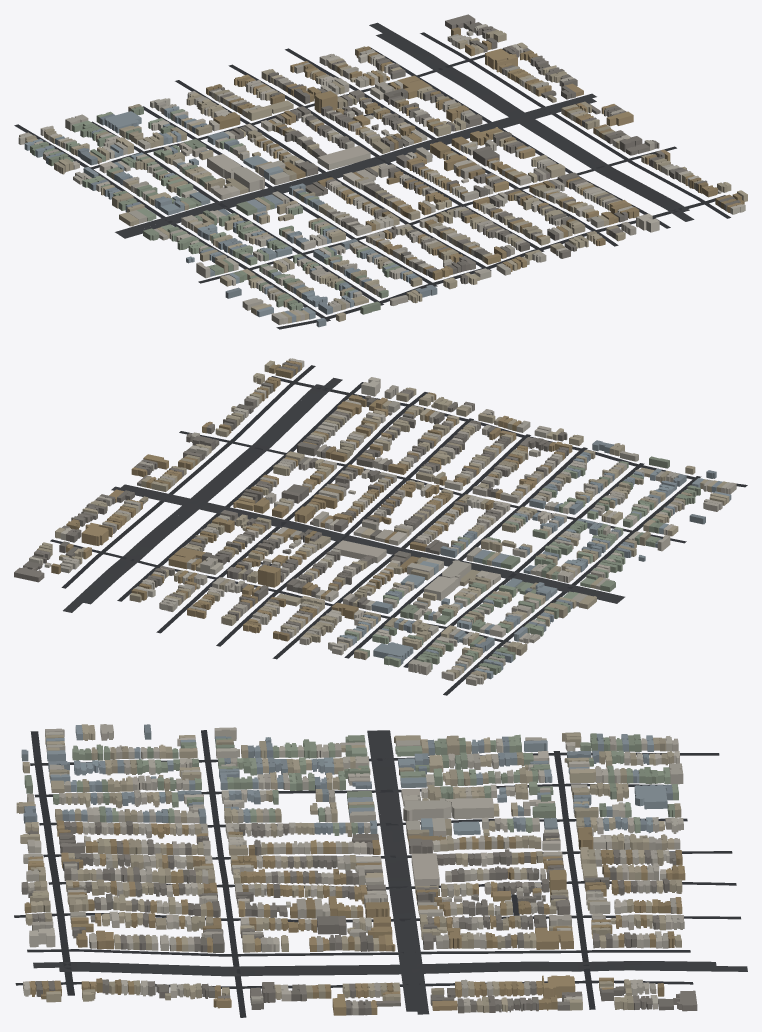
Rendered from tile_5_12.glb.
3 views of the same model, one above another, from view 1: azimuth 30°, elevation 25°; view 2: azimuth 150°, elevation 25°; view 3: azimuth 270°, elevation 25° (orthographic). The views are drawn at different scales.
Parts seen in each view (by area): view 1: bld_5_12, road_5_12; view 2: bld_5_12, road_5_12; view 3: bld_5_12, road_5_12.
Boxes of the visible parts, x1,y1,x2,y2 form: bld_5_12: (18,14,747,327); road_5_12: (14,22,730,329); bld_5_12: (14,358,736,685); road_5_12: (50,365,747,695); bld_5_12: (16,724,697,1015); road_5_12: (14,730,747,1017).
Bounding box in the file's own units: 853 × 40.69 × 894.
